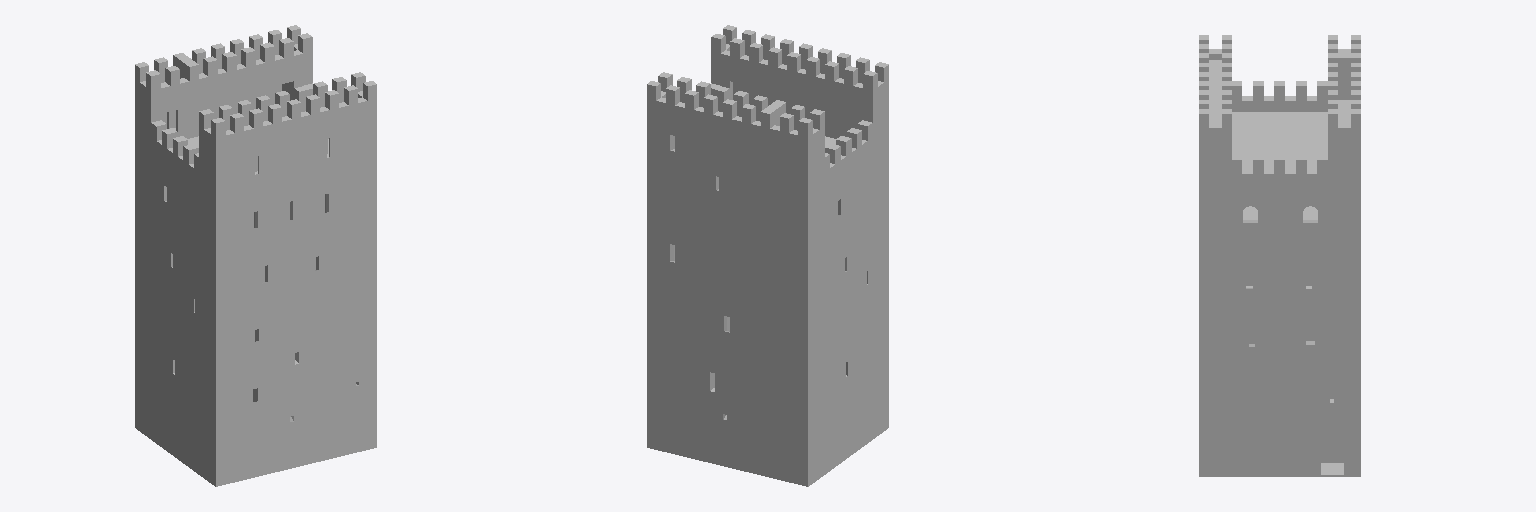
Rendered from medieval_tower_2.obj.
3 renders of one model, left to right at view 1: azimuth 30°, elevation 25°; view 2: azimuth 150°, elevation 25°; view 3: azimuth 270°, elevation 25°, orthographic.
Visible parts, largest first — view 1: Tower; view 2: Tower; view 3: Tower.
Boxes of the visible parts, <box> form: Tower: <box>135,25,376,486</box>; Tower: <box>647,25,888,486</box>; Tower: <box>1199,35,1360,476</box>.
Bounding box in the file's own units: 11.67 × 25.1 × 10.12.